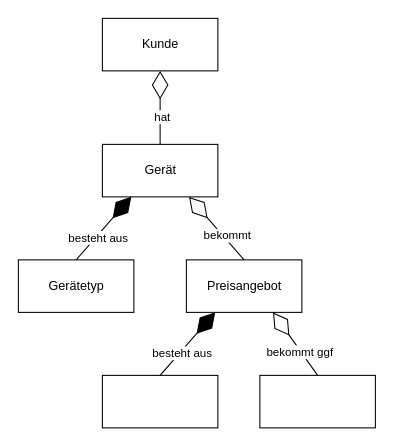
The diagram is 394 pixels wide and 446 high, and some of its shapes have lost their labels. The centre of each missing label's shape, as x and y in pixels:
"Bewertung" belongs at point 159,401.
"Rechnung" belongs at point 317,401.
